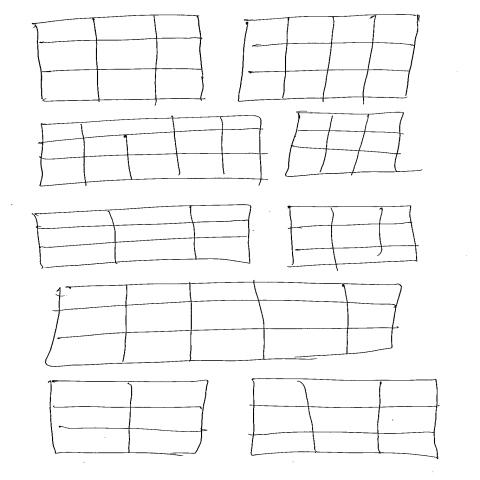Table: (43, 282, 406, 369), (37, 115, 265, 189), (236, 14, 421, 105), (249, 378, 443, 460), (31, 14, 204, 104), (33, 204, 255, 271), (48, 379, 213, 456), (283, 110, 410, 179), (288, 205, 420, 268)
